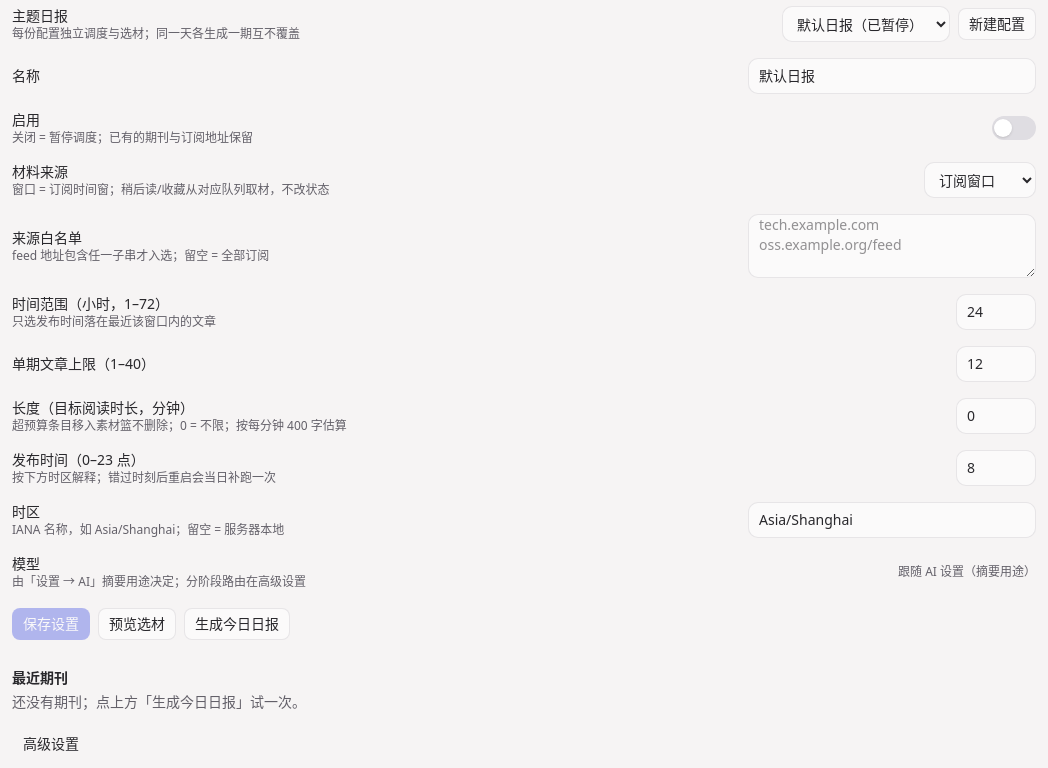
Test: GptDigestSection（F01 多配置） › 新建配置发出 POST 并切换到新配置
expect the dropdown named "选择日报配置" is shown: met, box [782, 6, 950, 42]
What coordinates should you click on to do the following:
click the button "新建配置"
I would click on:
 (997, 24)
Its box is [958, 8, 1036, 40].
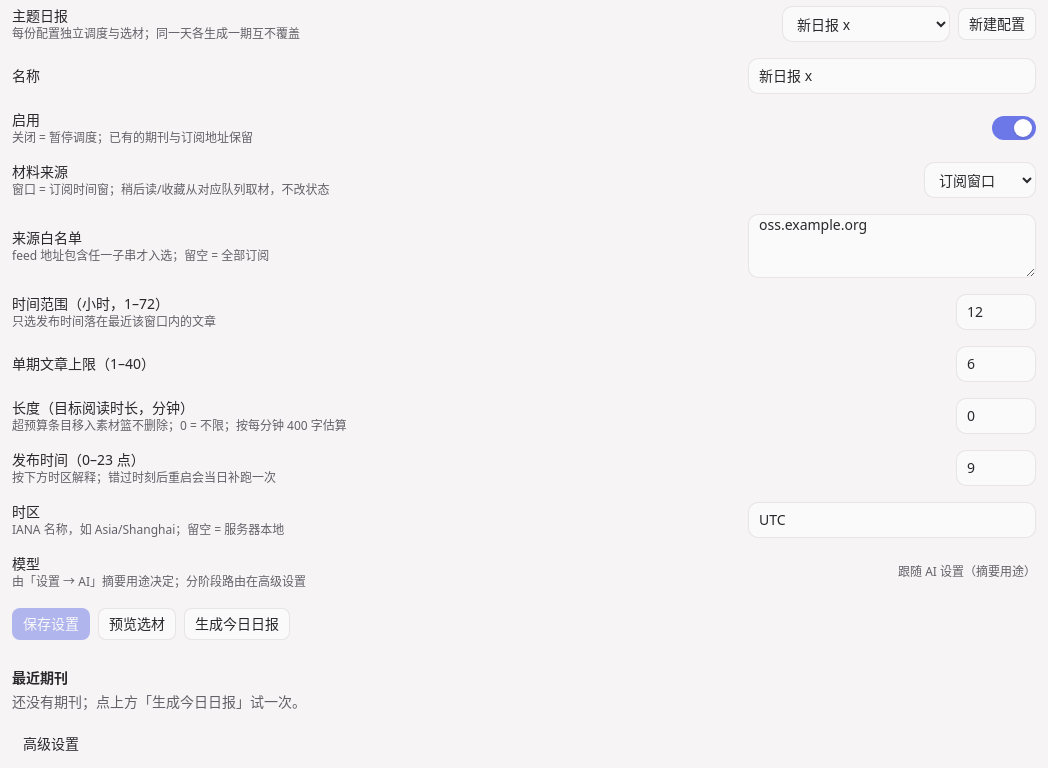
expect the field named "日报名称" holds "新日报 x": met, box [748, 58, 1036, 94]
